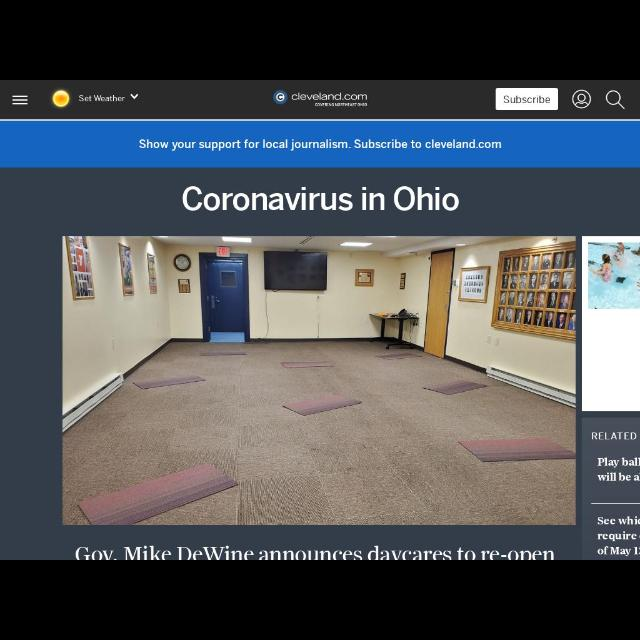icon: (604, 90, 626, 110), (572, 90, 592, 110), (12, 95, 28, 106), (130, 92, 138, 100)
image: (62, 238, 576, 524), (582, 235, 638, 411), (272, 88, 370, 112), (54, 90, 68, 108)
spinner: (76, 85, 142, 111)
text: (182, 184, 458, 212), (74, 545, 556, 559), (138, 137, 502, 153), (598, 513, 638, 555), (595, 455, 639, 481), (78, 94, 125, 106), (590, 431, 638, 441)
textbutton: (496, 88, 558, 110)
